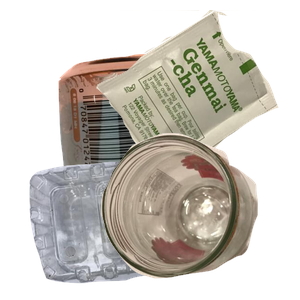glass: (98, 131, 300, 300)
metal: (56, 52, 242, 232)
plastic: (27, 152, 247, 300)
trash: (91, 10, 300, 186)
